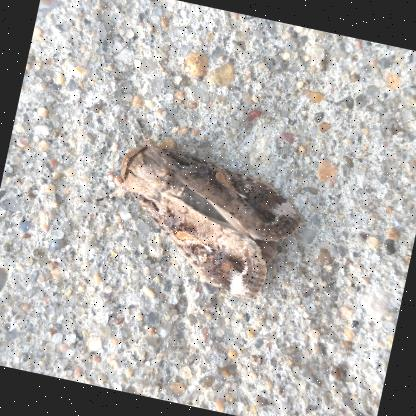Fall Armyworm Moth: (76, 110, 316, 310)
